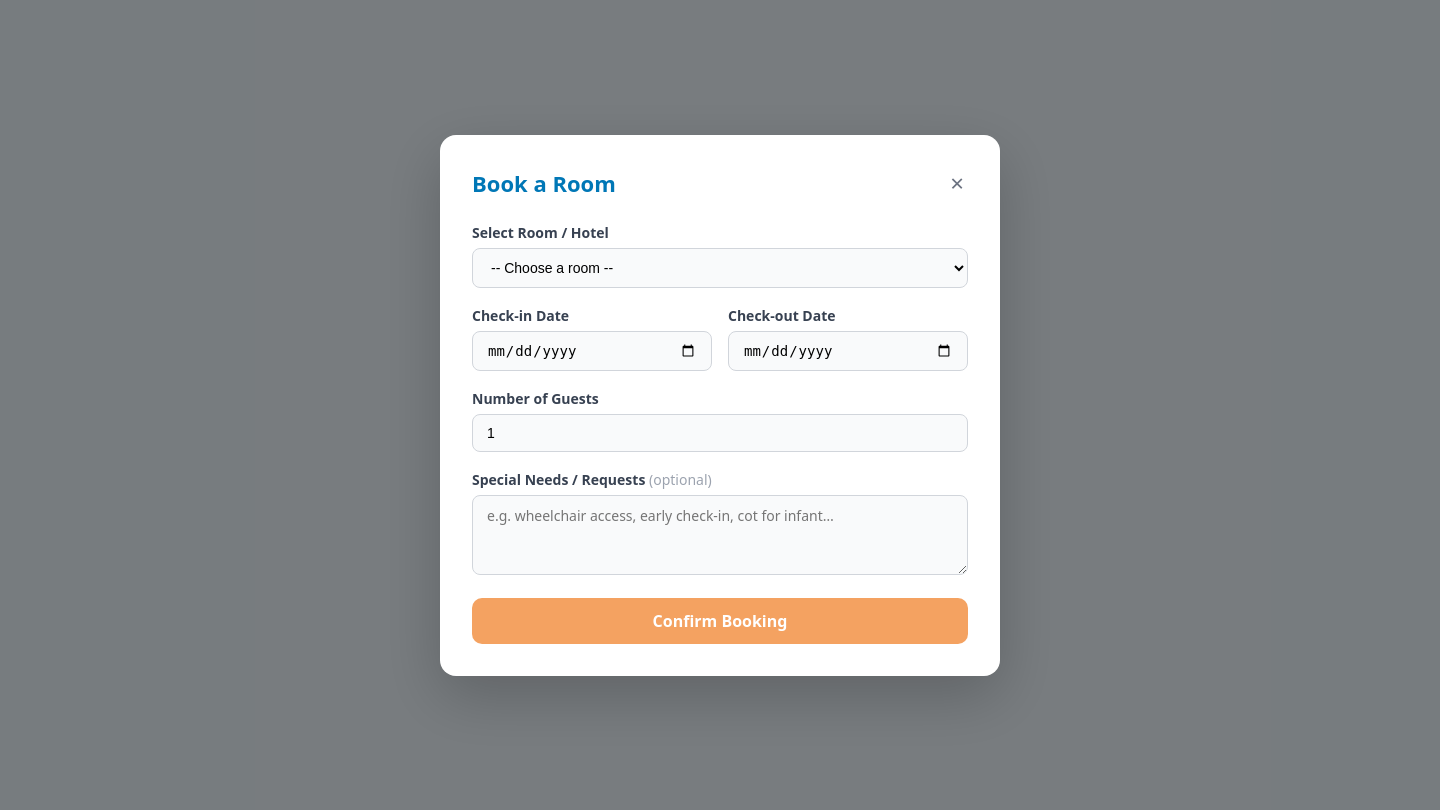
Test: BookingModal › validation › shows an error when check-out is before check-in
Step 1. Select "🏛️ Aegean Pearl Resort – Standard (Santorini, Greece) · $180/night" in the dropdown labelled "Select Room / Hotel" → (720, 268), box [472,248,968,288]
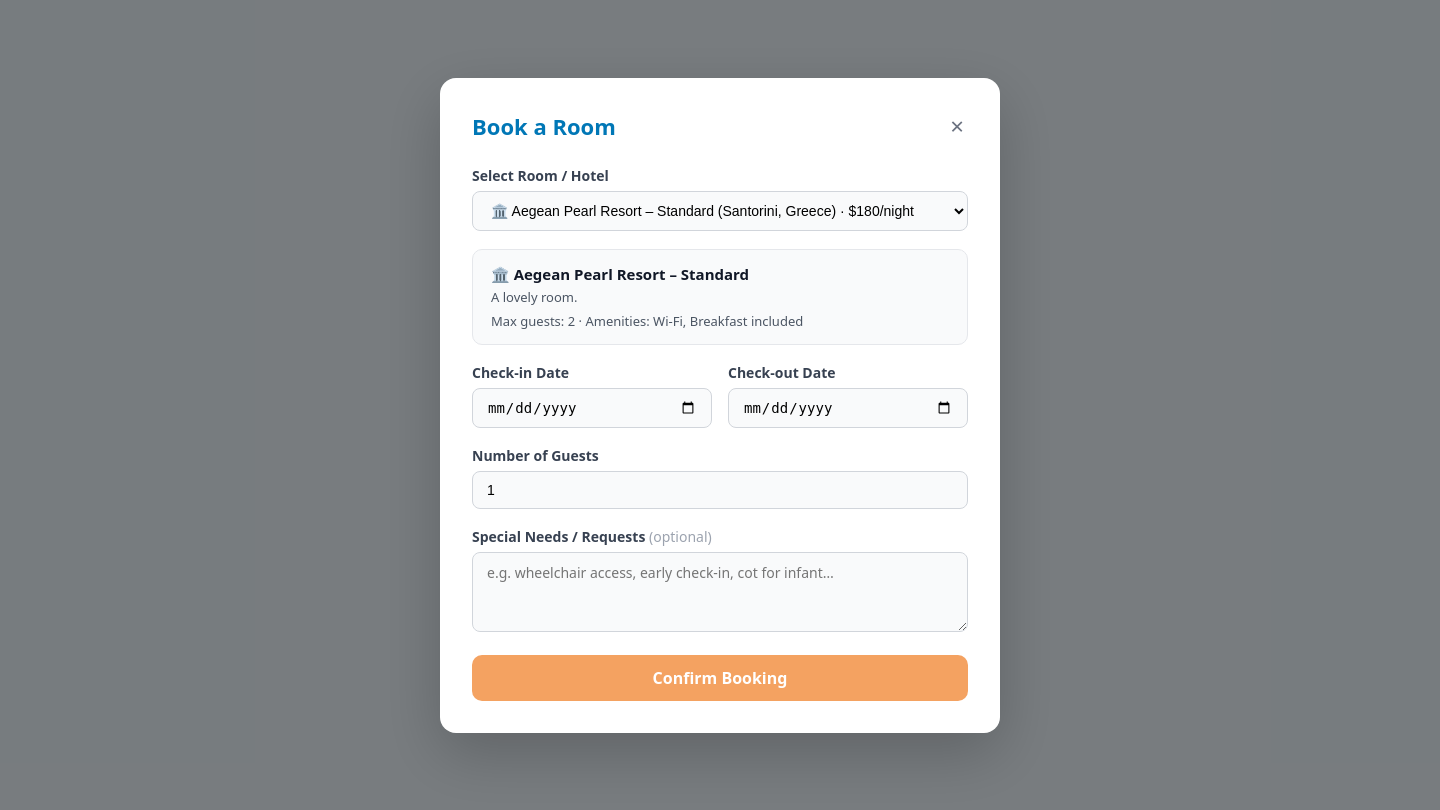
Step 2. Type "2026-08-10" into the date field labelled "Check-in Date" → (592, 408), box [472,388,712,428]
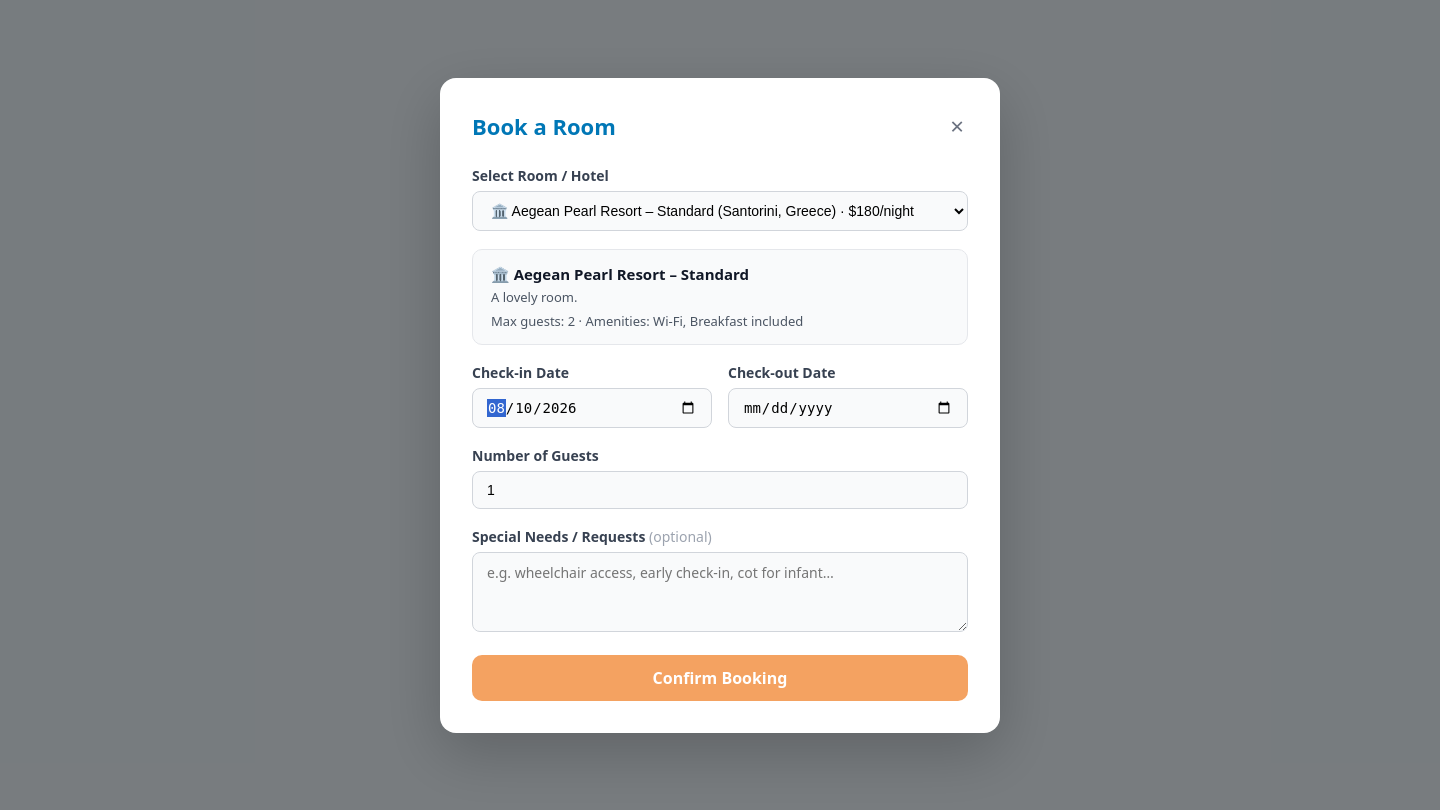
Step 3. Type "2026-08-05" into the date field labelled "Check-out Date" → (848, 408), box [728,388,968,428]
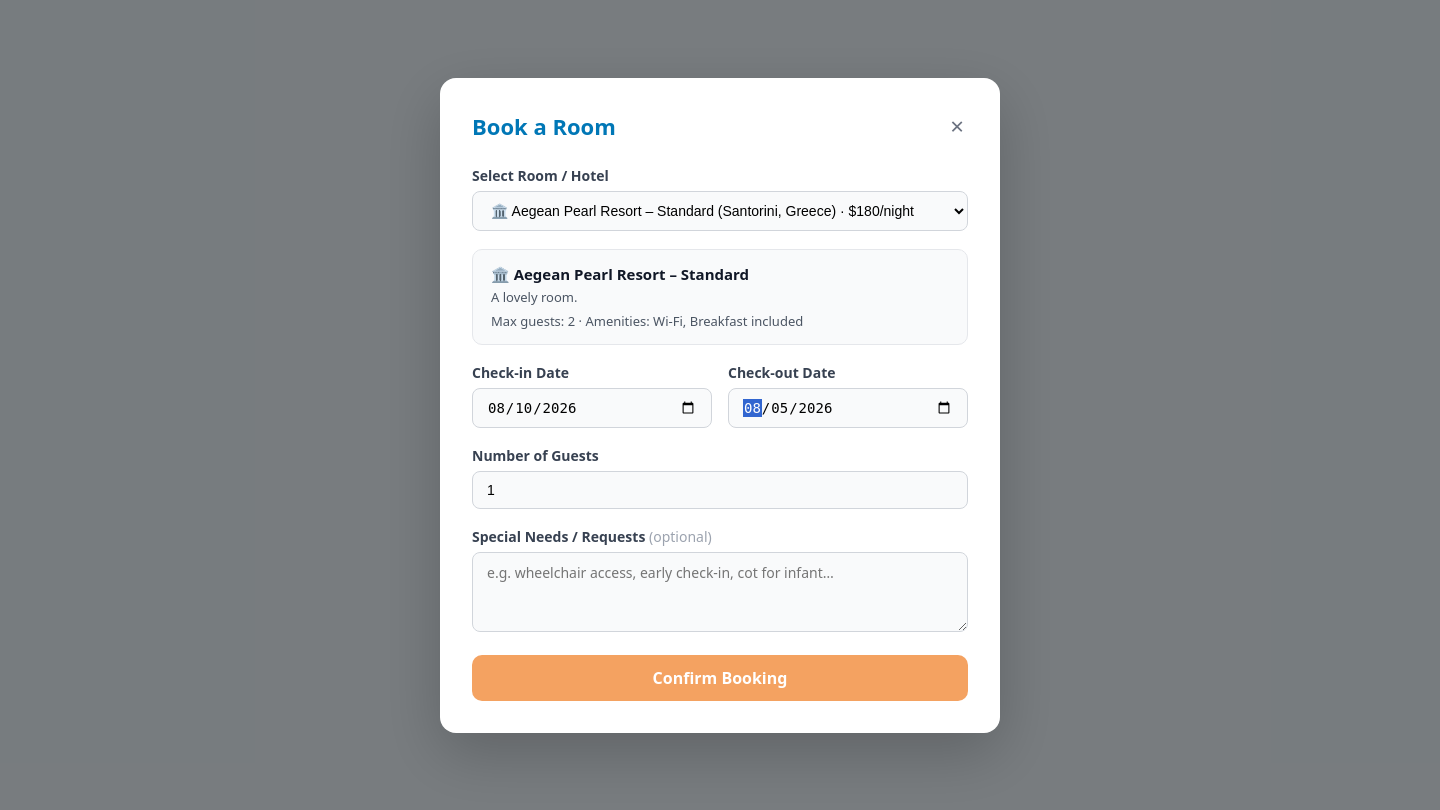
Step 4. Click the button "Confirm Booking" → click(720, 678), box [472,654,968,700]
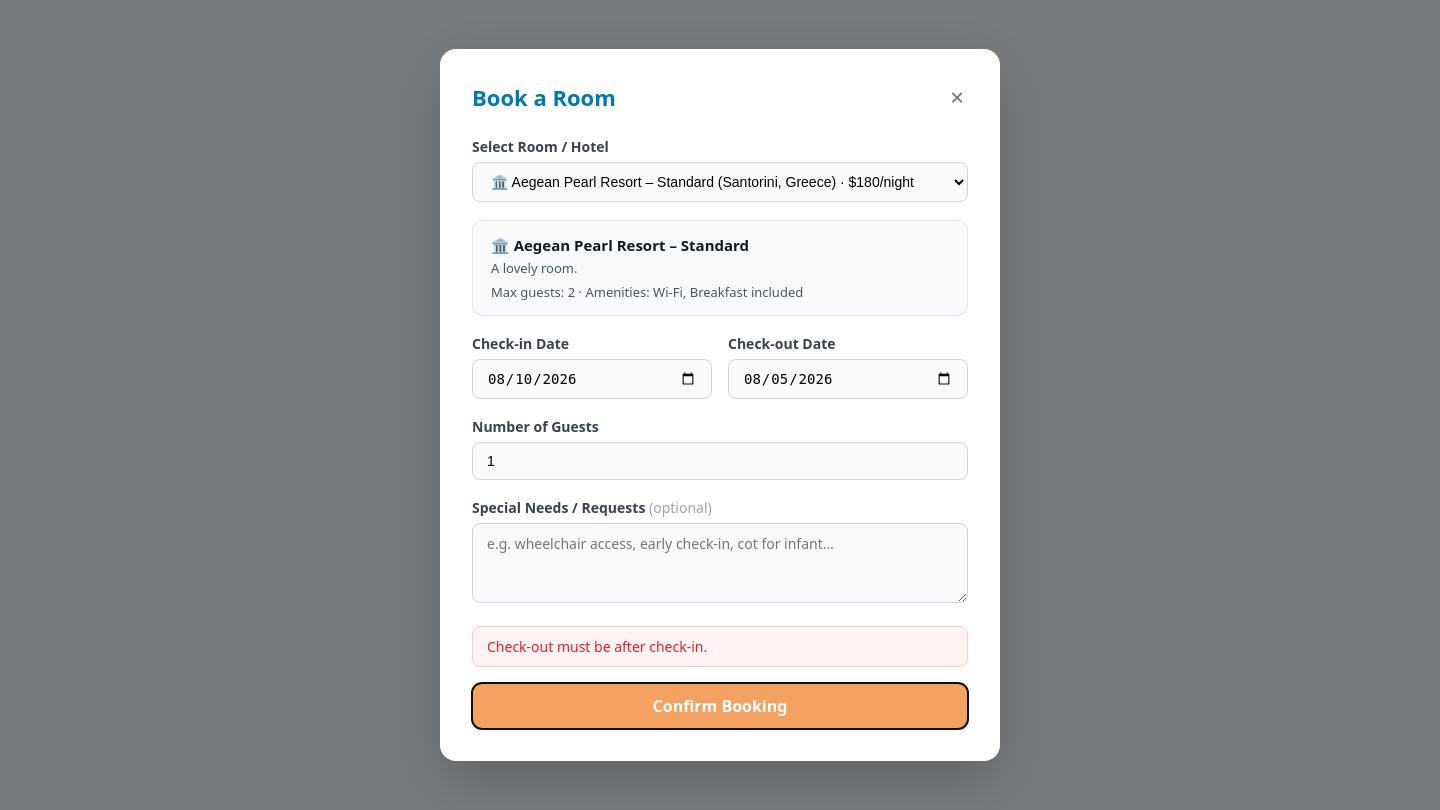
Expected: the text "Check-out must be after check-in." is shown, [472,626,968,667]
